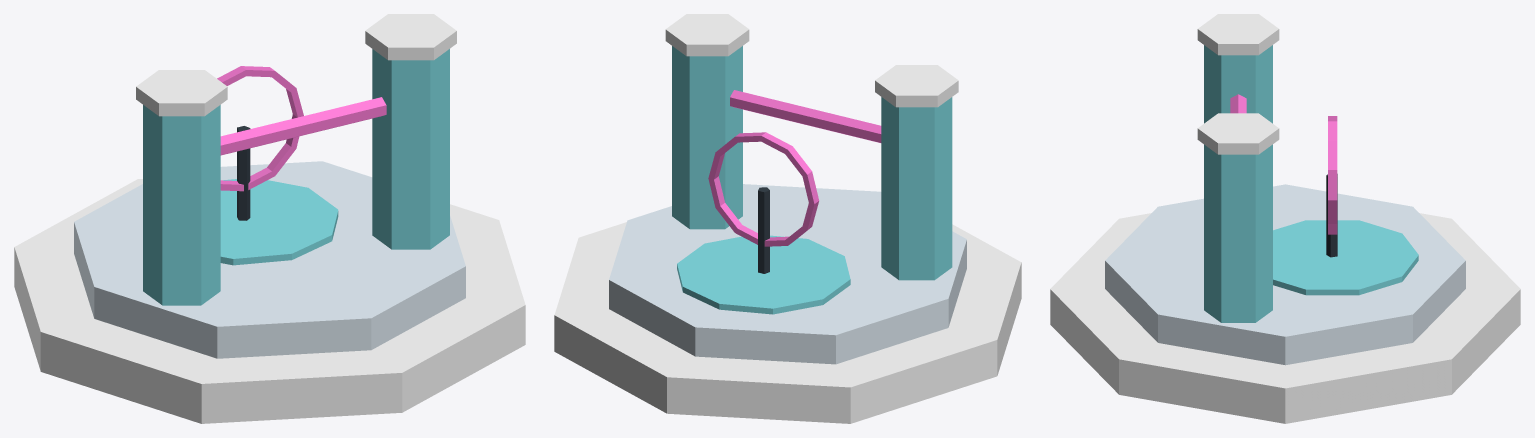
The model's file is reactor-plateau.glb.
The picture shows the model from 3 angles, left to right: view 1: azimuth 30°, elevation 25°; view 2: azimuth 150°, elevation 25°; view 3: azimuth 270°, elevation 25°; orthographic projection. The views are drawn at different scales.
Parts seen in each view (by area): view 1: lab-reactor-plateau; view 2: lab-reactor-plateau; view 3: lab-reactor-plateau.
Part boxes in pixels (<box>): lab-reactor-plateau: <box>14,14,525,423</box>; lab-reactor-plateau: <box>554,14,1021,423</box>; lab-reactor-plateau: <box>1050,14,1520,423</box>.
Size of the model in its own units: 3 by 1.73 by 3.
